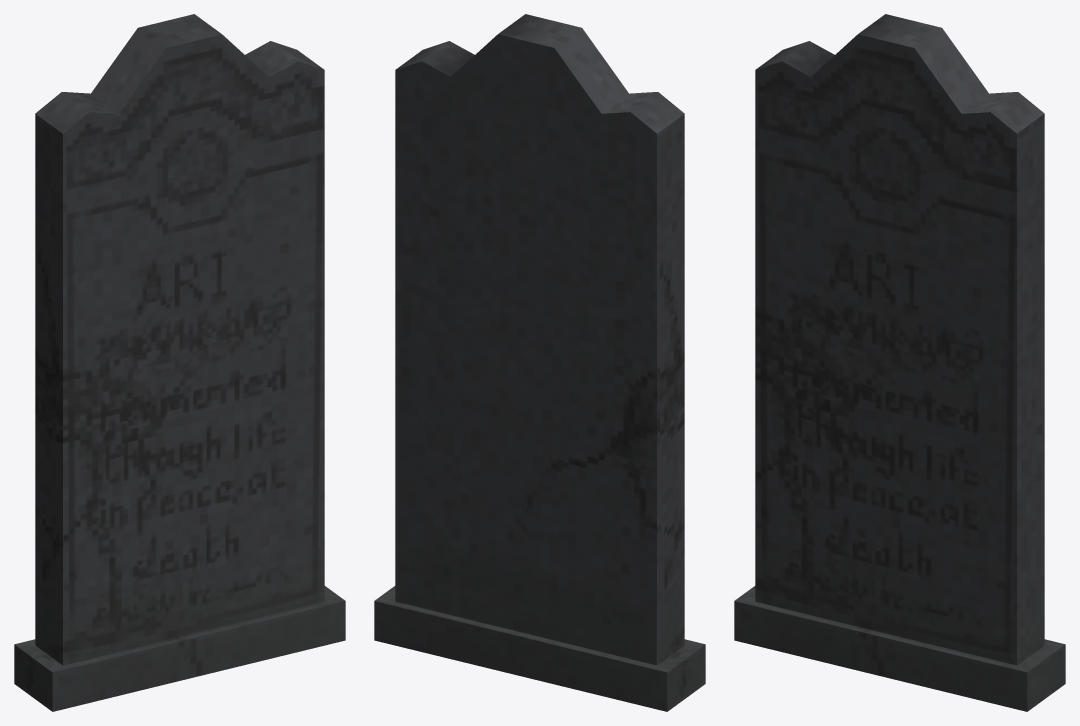
The model's file is tombstone3.fbx.
3 views of the same model, side by side, from view 1: azimuth 30°, elevation 25°; view 2: azimuth 150°, elevation 25°; view 3: azimuth 330°, elevation 25° (orthographic).
Parts seen in each view (by area): view 1: tombstone3; view 2: tombstone3; view 3: tombstone3.
Part boxes in pixels (x1,y1,x2,y2): tombstone3: (14, 14, 345, 711); tombstone3: (374, 14, 705, 711); tombstone3: (734, 14, 1065, 711).
Bounding box in the file's own units: 1.36 × 2.81 × 0.3101.
